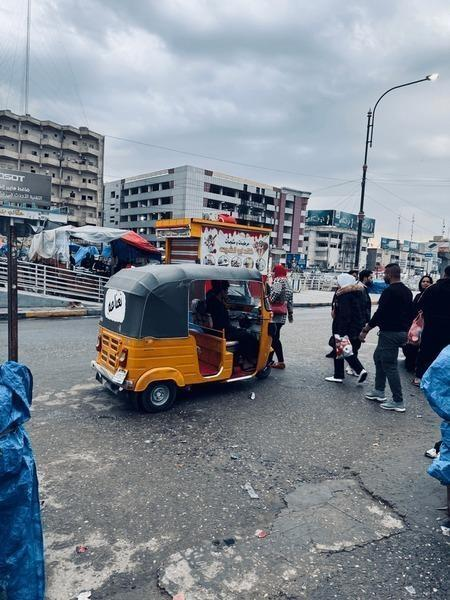keke: (88, 255, 284, 415)
